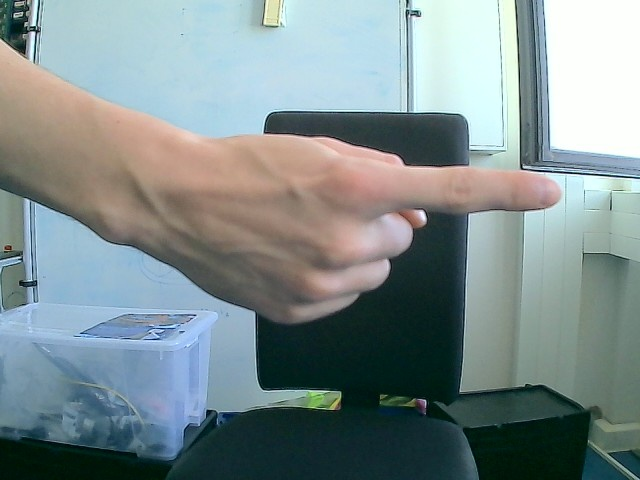left: (153, 130, 563, 326)
